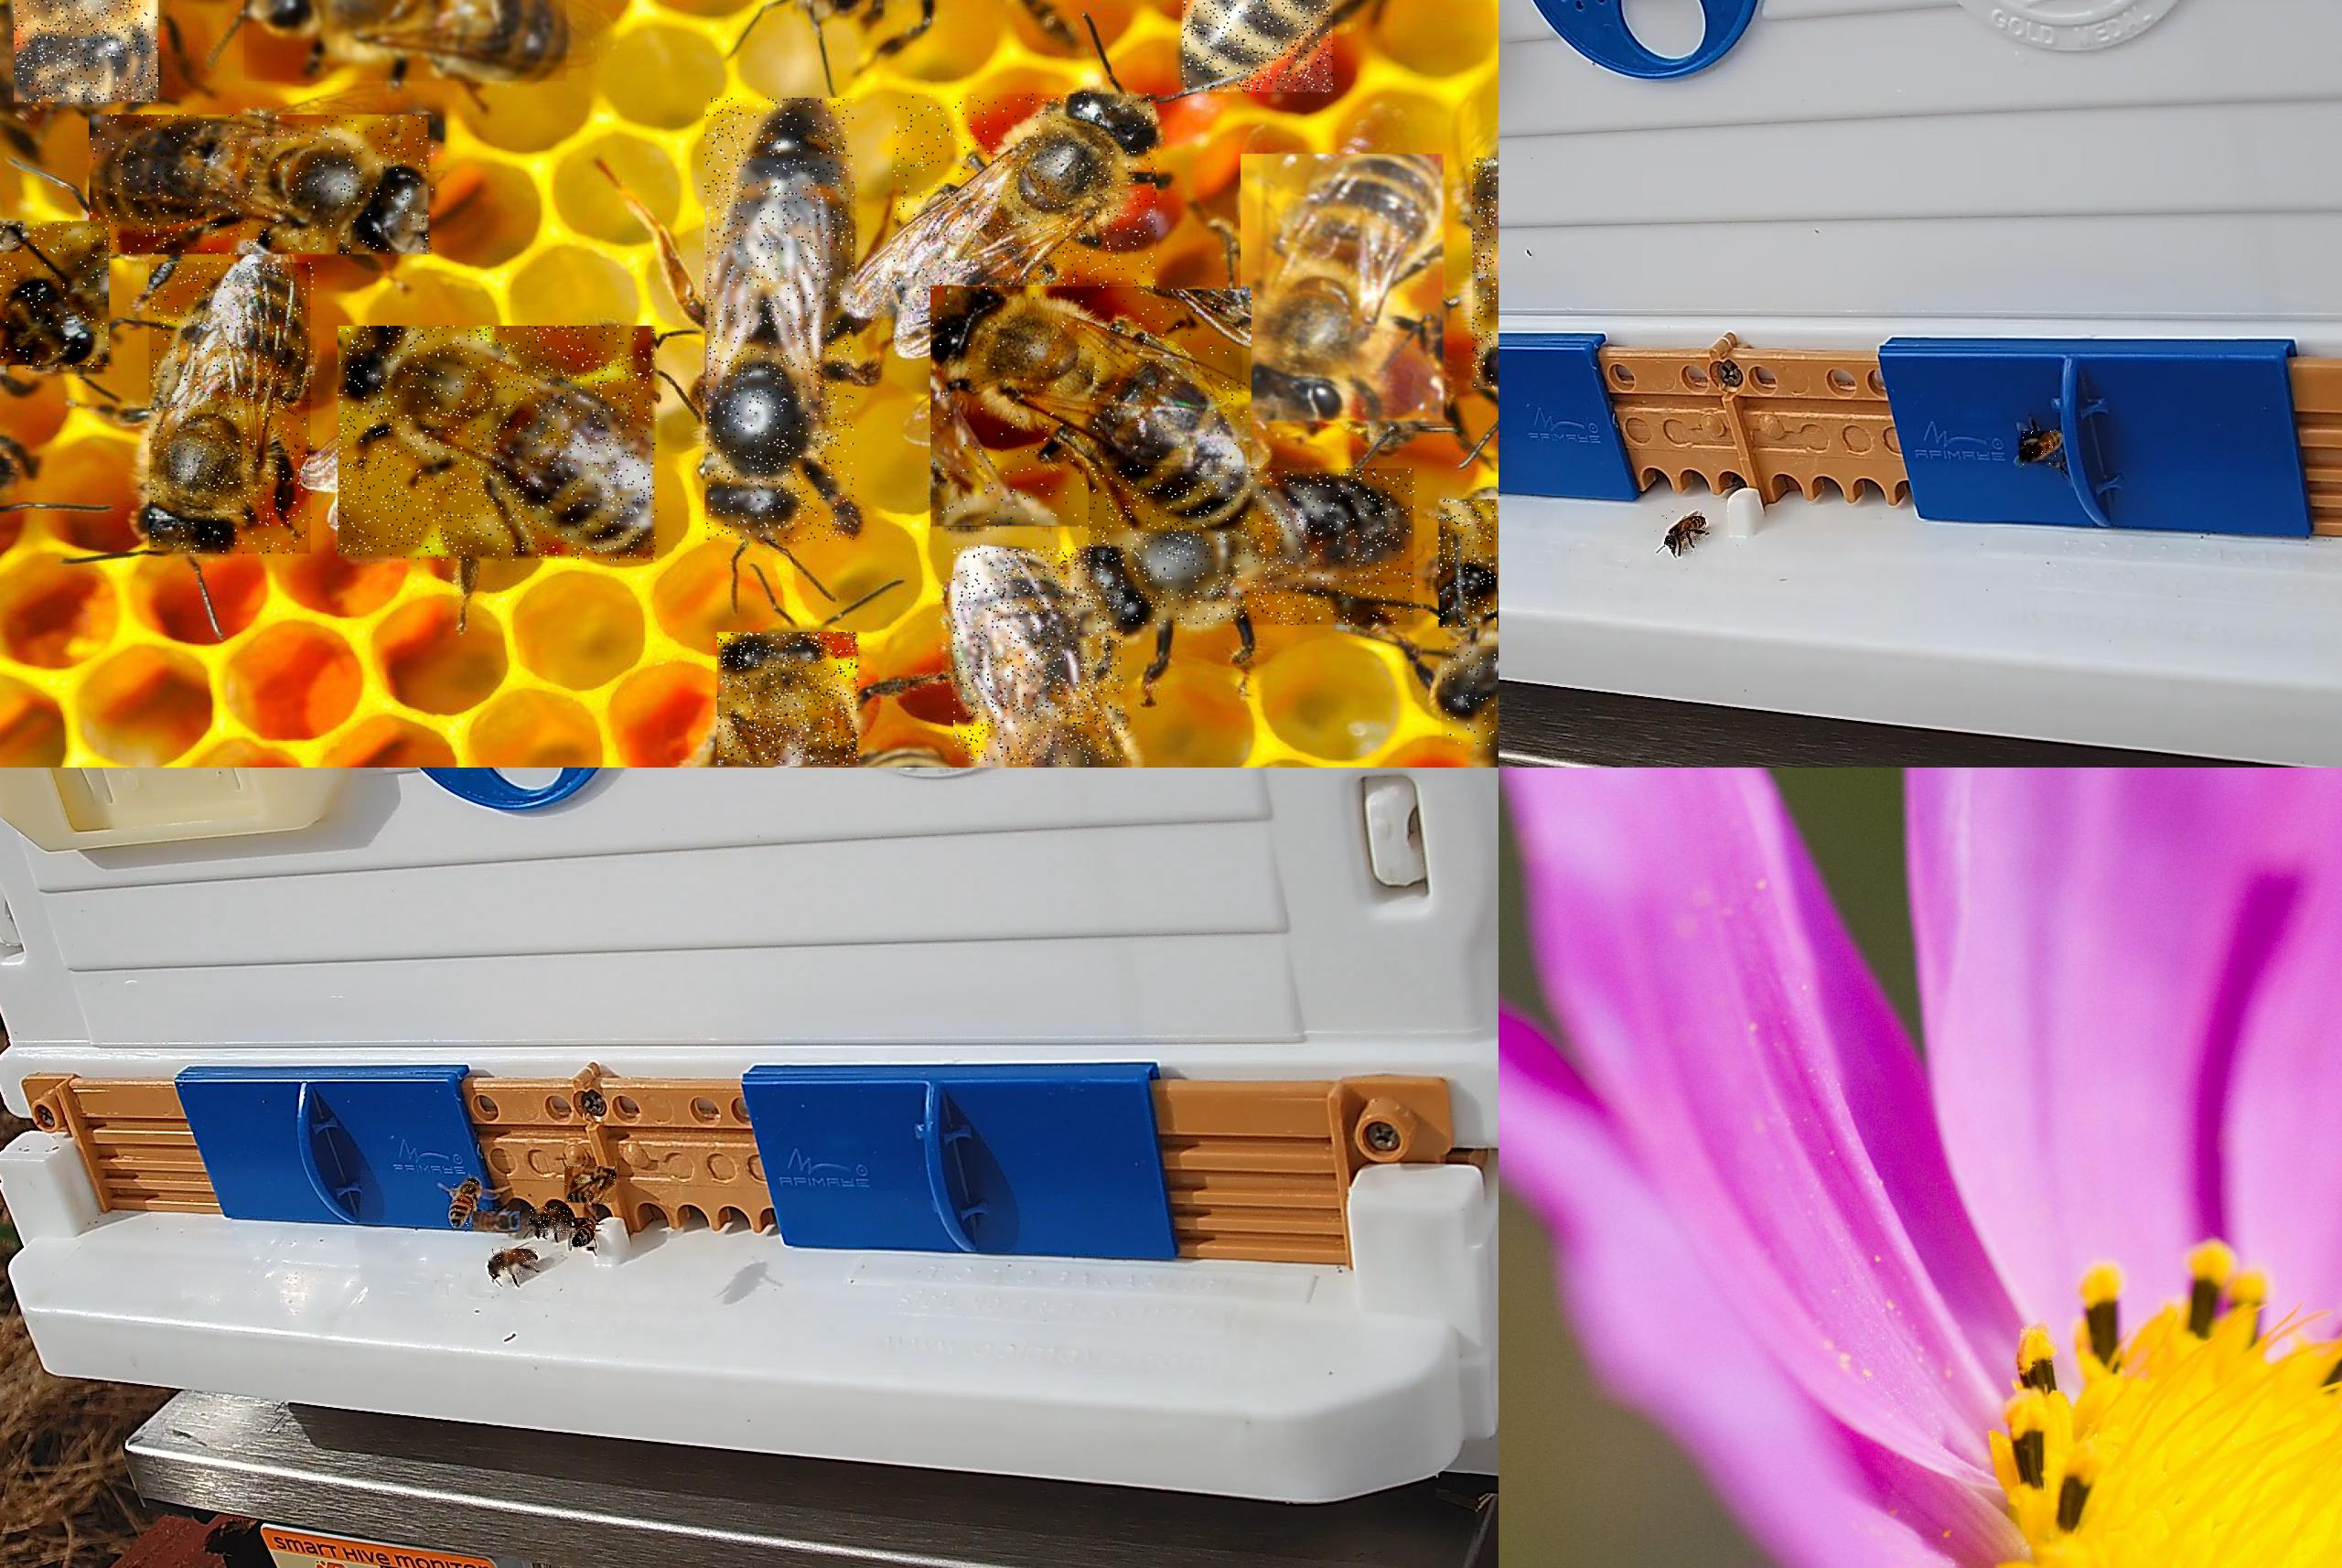bee: (931, 291, 1253, 532), (340, 327, 660, 563), (893, 94, 1159, 322), (1243, 156, 1451, 427), (1089, 469, 1416, 626), (91, 114, 436, 255), (151, 262, 317, 555), (954, 548, 1125, 767), (245, 0, 569, 82), (718, 632, 859, 767), (0, 222, 110, 371), (14, 0, 161, 103), (1182, 0, 1336, 94), (1439, 499, 1497, 628), (1474, 158, 1498, 390), (1442, 646, 1497, 747), (1665, 516, 1707, 553), (448, 1178, 480, 1227), (2020, 432, 2064, 467), (490, 1249, 537, 1277), (530, 1207, 571, 1236), (473, 1211, 522, 1232), (572, 1218, 597, 1251)
pollenbee: (564, 1167, 618, 1204)
queen: (705, 98, 856, 544)
